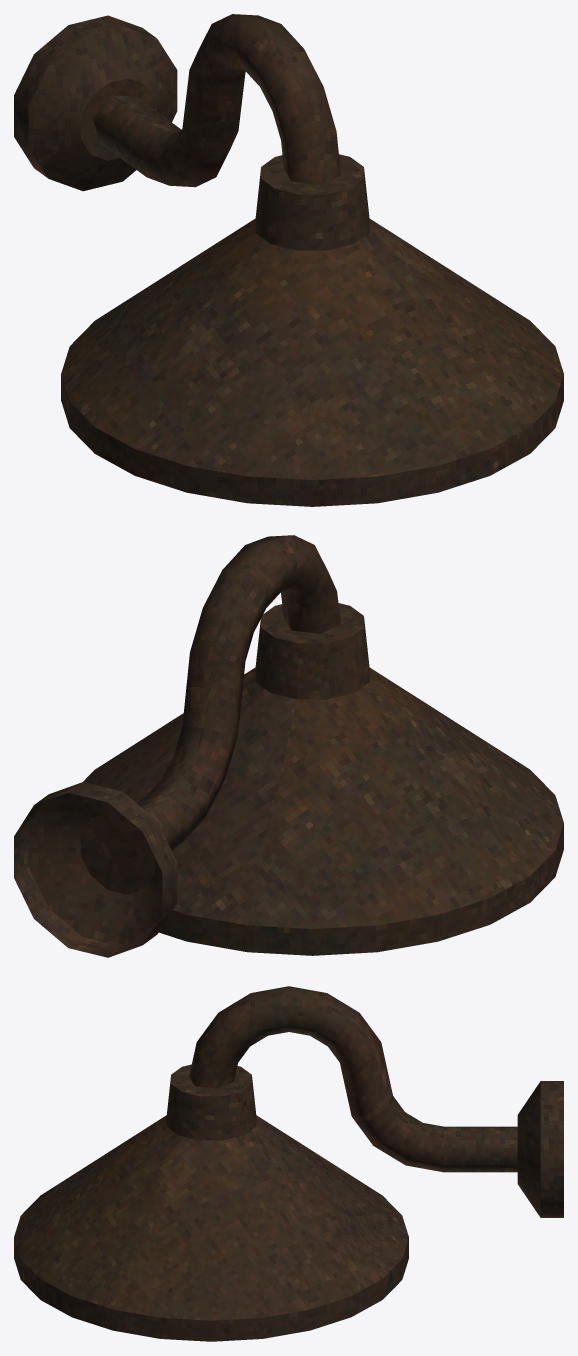
File: lamp_mx_3_off.glb
3 renders of one model, top to bottom at view 1: azimuth 30°, elevation 25°; view 2: azimuth 150°, elevation 25°; view 3: azimuth 270°, elevation 25°, orthographic. The views are drawn at different scales.
Parts seen in each view (by area): view 1: lamp_mx_3_off; view 2: lamp_mx_3_off; view 3: lamp_mx_3_off.
Part boxes in pixels (<box>): lamp_mx_3_off: <box>14,14,563,506</box>; lamp_mx_3_off: <box>14,535,563,957</box>; lamp_mx_3_off: <box>14,986,563,1341</box>.
Size of the model in its own units: 0.51 by 0.418 by 0.71.
2 materials, 2 textured.
